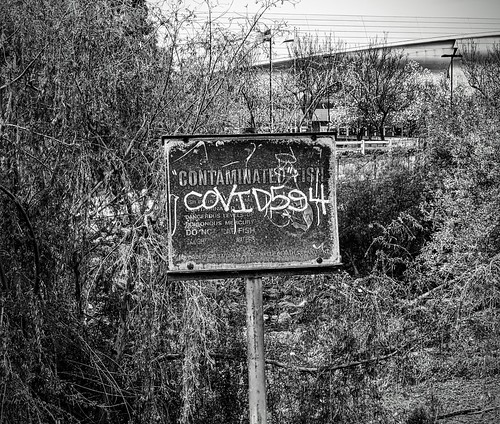graffiti: (179, 171, 322, 225)
sign: (163, 132, 341, 273)
vegetation: (1, 1, 500, 424)
